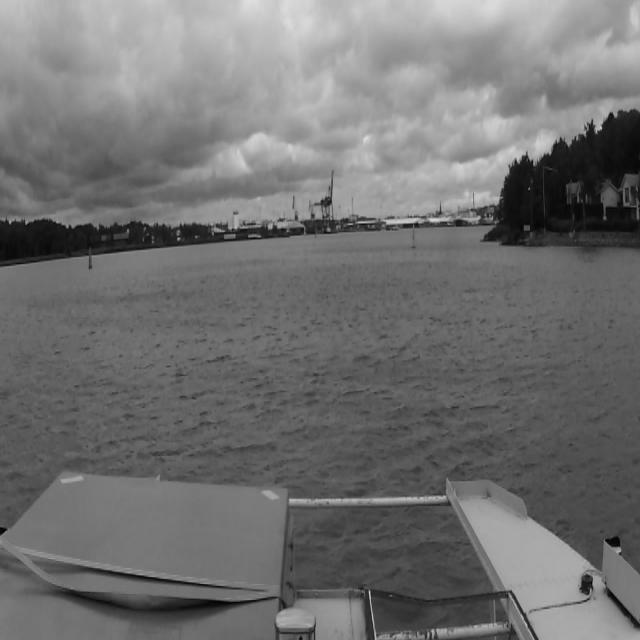buoy: (88, 246, 92, 268), (412, 229, 416, 248)
